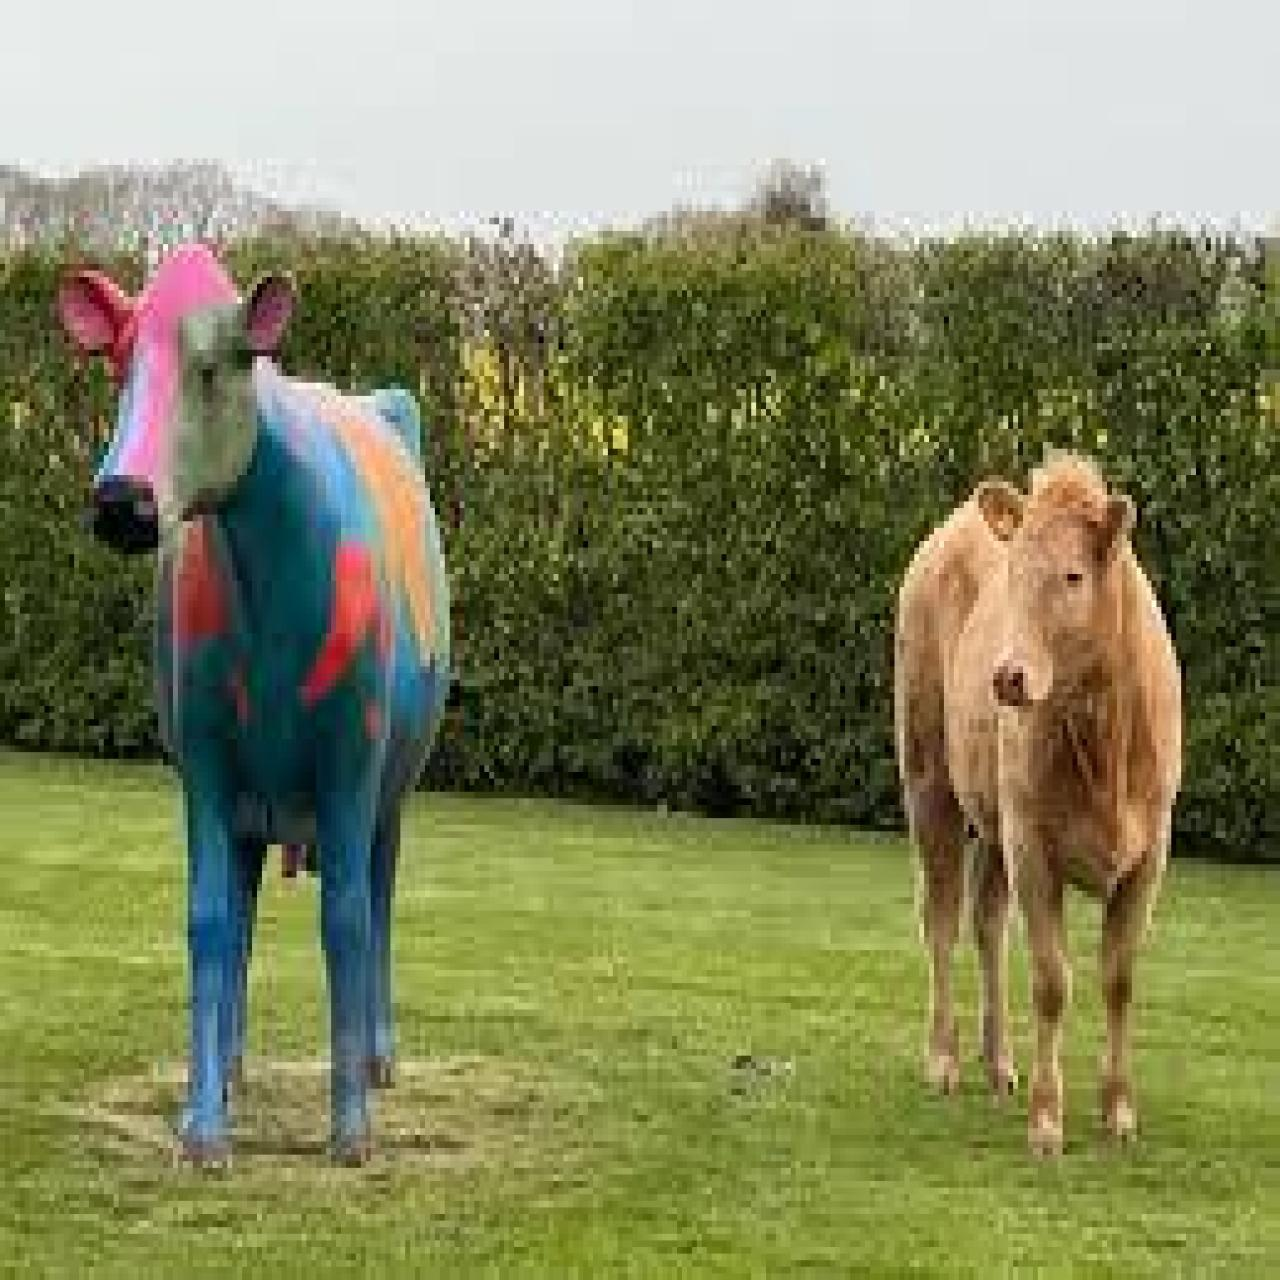cow: (54, 237, 450, 1167), (892, 452, 1184, 1158)
